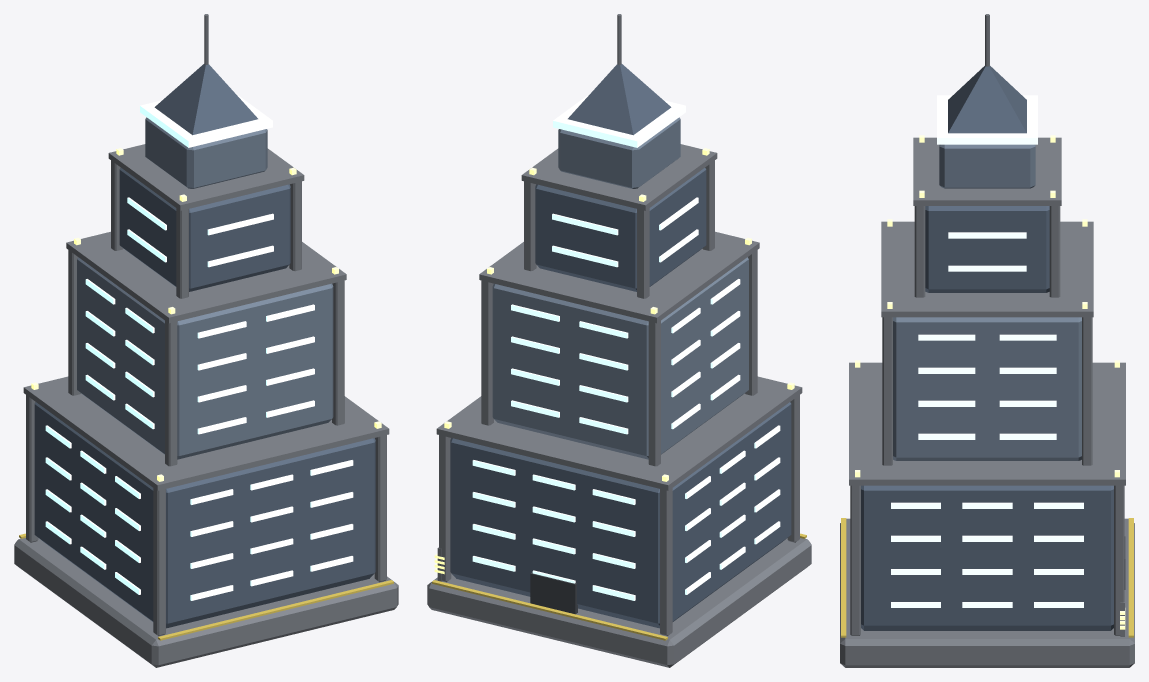
Rendered from zone_high_1_t4.glb.
3 renders of one model, left to right at view 1: azimuth 30°, elevation 25°; view 2: azimuth 150°, elevation 25°; view 3: azimuth 270°, elevation 25°, orthographic. The views are drawn at different scales.
Parts seen in each view (by area): view 1: zone_high_1_t4, detail; view 2: zone_high_1_t4, detail; view 3: zone_high_1_t4, detail.
Part boxes in pixels (x1,y1,x2,y2): zone_high_1_t4: (14,64,398,667); detail: (19,14,393,640); zone_high_1_t4: (427,64,811,667); detail: (432,14,806,640); zone_high_1_t4: (840,66,1134,667); detail: (841,14,1133,637).
Size of the model in its own units: 27.5 by 61.02 by 27.5.
